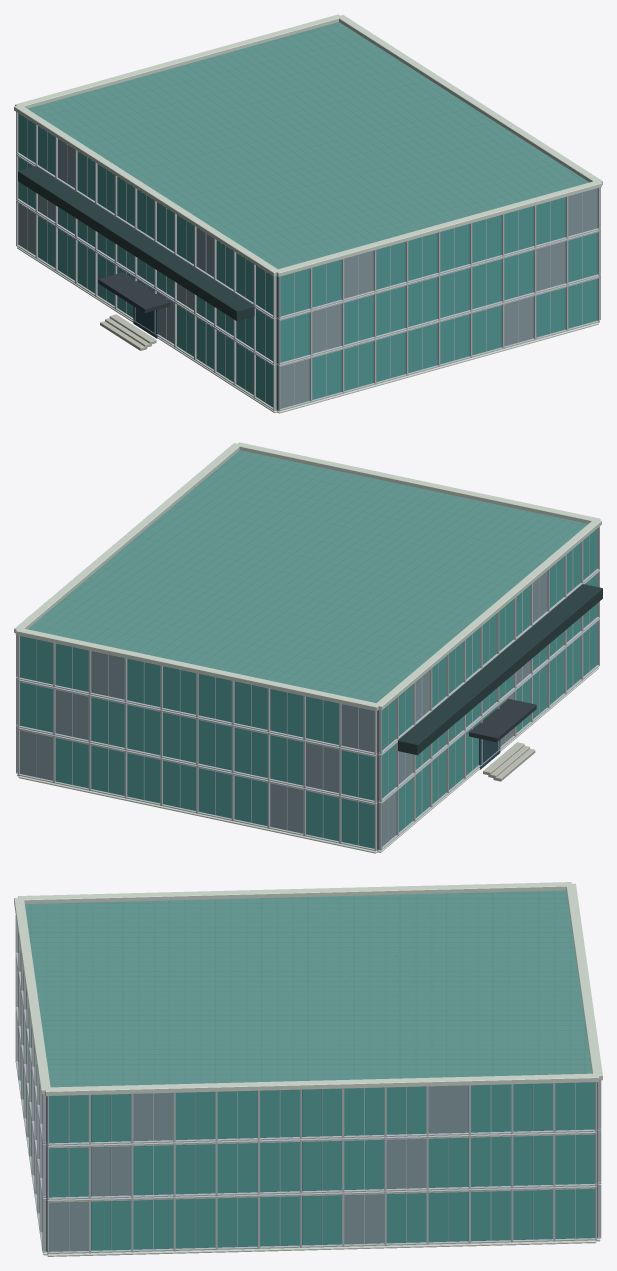
Rendered from student_union.glb.
3 renders of one model, top to bottom at view 1: azimuth 30°, elevation 25°; view 2: azimuth 150°, elevation 25°; view 3: azimuth 270°, elevation 25°, orthographic. The views are drawn at different scales.
Visible parts, largest first — view 1: student_union_body_6daaa3, student_union_glass_5bada9, student_union_frames_c2cbd0, student_union_stone_d9e4d9, student_union_glass_90a8b0, student_union_stone_32494a, student_union_stone_3a464b, student_union_stone_c9ccc0, student_union_glass_355b64; view 2: student_union_body_6daaa3, student_union_glass_5bada9, student_union_frames_c2cbd0, student_union_stone_d9e4d9, student_union_glass_90a8b0, student_union_stone_32494a, student_union_stone_3a464b, student_union_stone_c9ccc0; view 3: student_union_body_6daaa3, student_union_glass_5bada9, student_union_frames_c2cbd0, student_union_stone_d9e4d9, student_union_glass_90a8b0.
Boxes of the visible parts, x1=… form: student_union_body_6daaa3: x1=27, y1=22, x2=589, y2=412; student_union_glass_5bada9: x1=18, y1=113, x2=597, y2=407; student_union_frames_c2cbd0: x1=16, y1=112, x2=600, y2=411; student_union_stone_d9e4d9: x1=14, y1=14, x2=602, y2=413; student_union_glass_90a8b0: x1=18, y1=139, x2=597, y2=408; student_union_stone_32494a: x1=18, y1=166, x2=254, y2=320; student_union_stone_3a464b: x1=98, y1=272, x2=169, y2=312; student_union_stone_c9ccc0: x1=100, y1=314, x2=156, y2=350; student_union_glass_355b64: x1=133, y1=306, x2=158, y2=338; student_union_body_6daaa3: x1=28, y1=450, x2=587, y2=852; student_union_glass_5bada9: x1=20, y1=529, x2=597, y2=848; student_union_frames_c2cbd0: x1=16, y1=526, x2=599, y2=851; student_union_stone_d9e4d9: x1=14, y1=442, x2=601, y2=853; student_union_glass_90a8b0: x1=20, y1=571, x2=546, y2=846; student_union_stone_32494a: x1=398, y1=584, x2=602, y2=755; student_union_stone_3a464b: x1=469, y1=698, x2=536, y2=742; student_union_stone_c9ccc0: x1=483, y1=742, x2=535, y2=781; student_union_body_6daaa3: x1=25, y1=890, x2=591, y2=1087; student_union_glass_5bada9: x1=18, y1=932, x2=595, y2=1250; student_union_frames_c2cbd0: x1=15, y1=915, x2=601, y2=1254; student_union_stone_d9e4d9: x1=14, y1=882, x2=602, y2=1256; student_union_glass_90a8b0: x1=18, y1=970, x2=468, y2=1251.
Bounding box in the file's own units: 31.07 × 11.08 × 35.41.
Materials: 10 (1 with a texture image).
